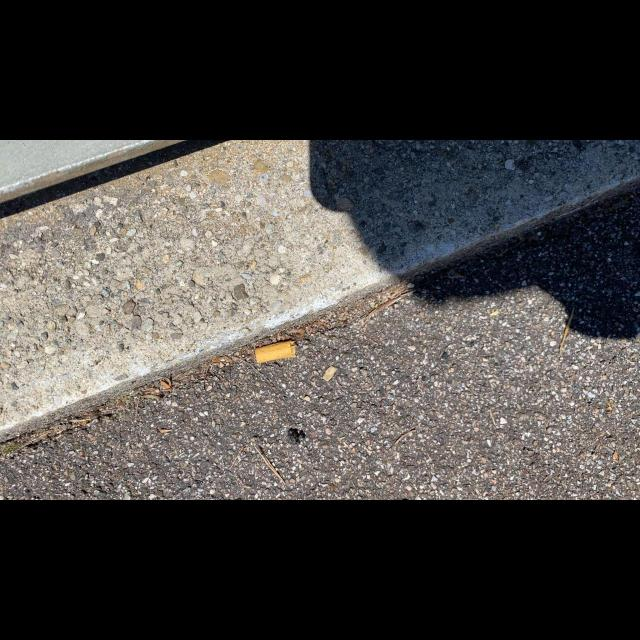cigarette: (255, 340, 298, 364)
